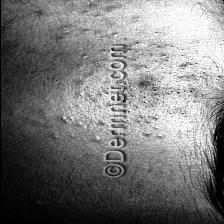Non-Cancerous Skin Condition: (155, 48, 212, 111), (134, 80, 156, 91)
